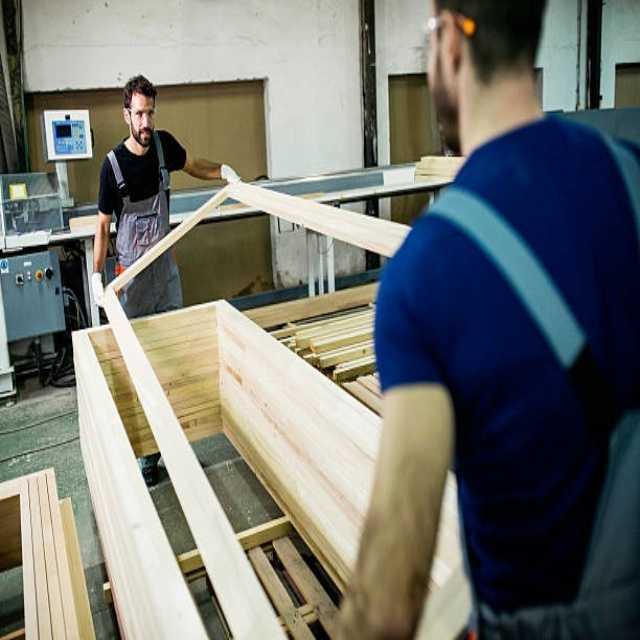Gafas: (423, 12, 477, 44), (127, 107, 157, 120)
Guantes: (91, 271, 106, 310), (221, 164, 241, 184)
Sin_mascara: (138, 128, 152, 136)
